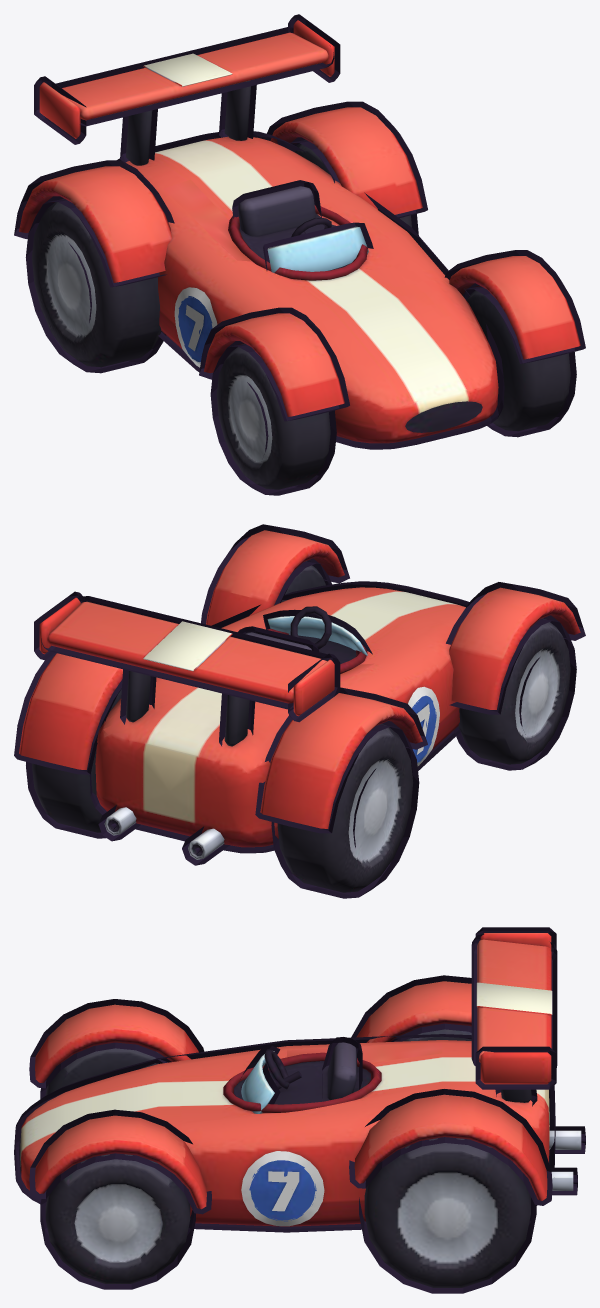
File: ToyCar.glb
3 renders of one model, top to bottom at view 1: azimuth 30°, elevation 25°; view 2: azimuth 150°, elevation 25°; view 3: azimuth 270°, elevation 25°, orthographic. The views are drawn at different scales.
Visible parts, largest first — view 1: ToyCar, ToyCar_Outline; view 2: ToyCar, ToyCar_Outline; view 3: ToyCar, ToyCar_Outline.
Part boxes in pixels (x1,y1,x2,y2): ToyCar: (19,20,580,489); ToyCar_Outline: (14,14,585,495); ToyCar: (19,530,580,892); ToyCar_Outline: (14,524,585,898); ToyCar: (19,933,581,1287); ToyCar_Outline: (14,927,585,1293).
Bounding box in the file's own units: 4.61 × 3.34 × 7.29.
2 materials, 2 textured.
